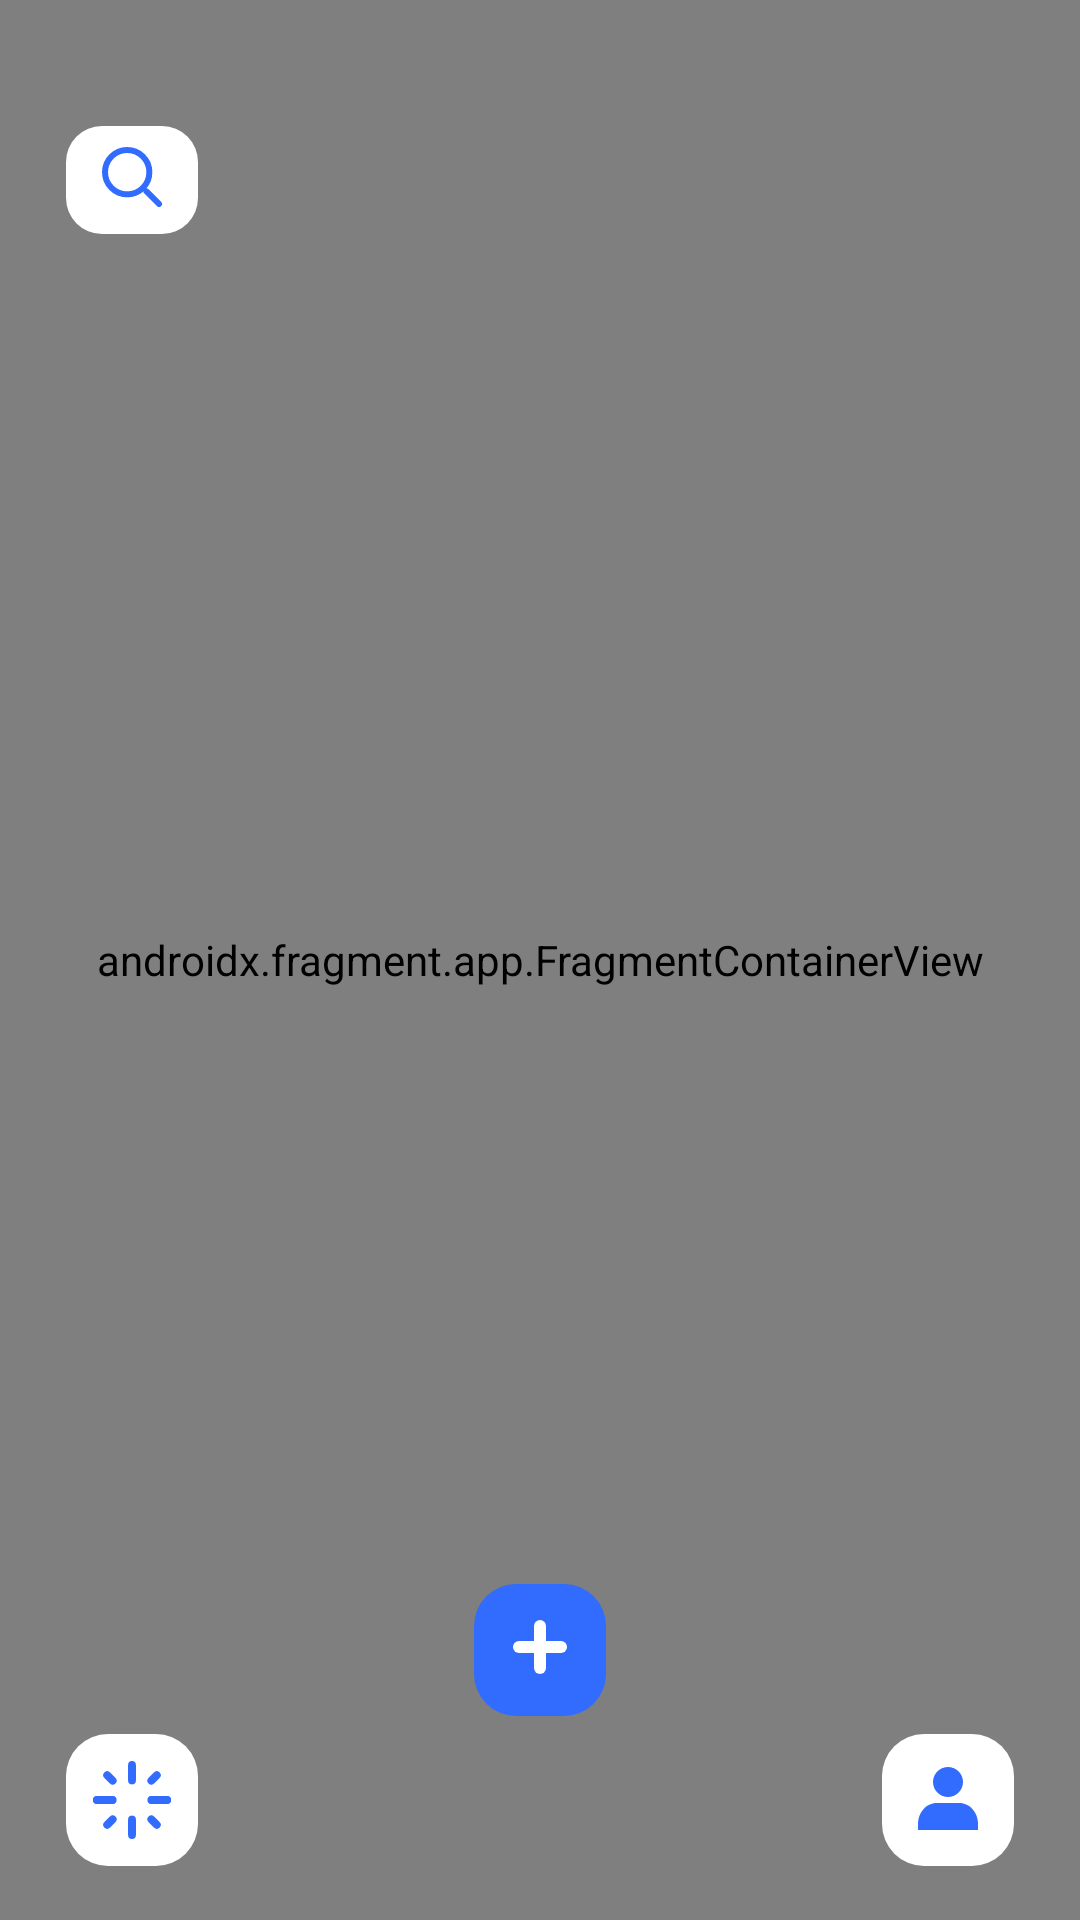

Screen size 1080x1920. Icon name, then its center in pixels as point (x, y):
person: point (948, 1800)
plus: point (540, 1650)
search: point (132, 180)
